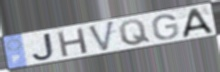A: (182, 6, 216, 40)
G: (151, 13, 181, 41)
H: (56, 26, 90, 59)
J: (31, 31, 56, 62)
Q: (117, 19, 153, 47)
V: (87, 20, 116, 53)
